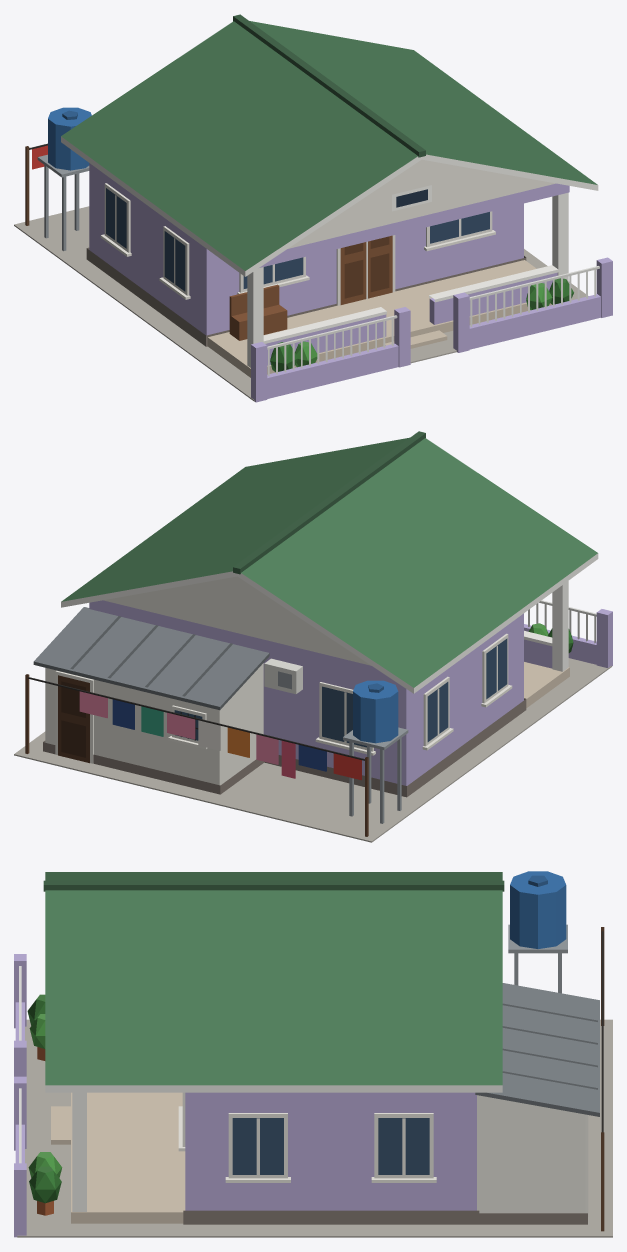
The model's file is rumah_07.glb.
3 views of the same model, one above another, from view 1: azimuth 30°, elevation 25°; view 2: azimuth 150°, elevation 25°; view 3: azimuth 270°, elevation 25° (orthographic). The views are drawn at different scales.
Visible parts, largest first — view 1: rumah_07; view 2: rumah_07; view 3: rumah_07.
Part boxes in pixels (<box>): rumah_07: <box>14,14,612,402</box>; rumah_07: <box>14,431,612,842</box>; rumah_07: <box>14,871,612,1237</box>.
Size of the model in its own units: 8.96 by 4.76 by 10.48.
